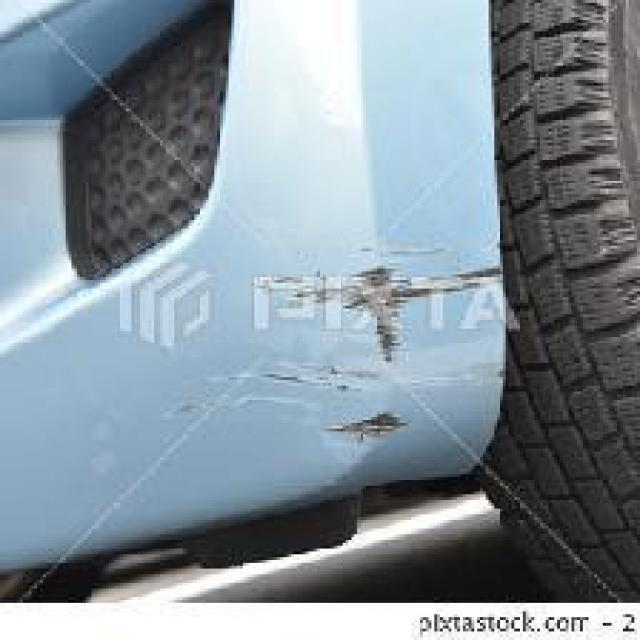damaged: (163, 260, 512, 454)
